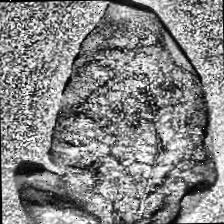spider mites: (10, 0, 218, 224)
